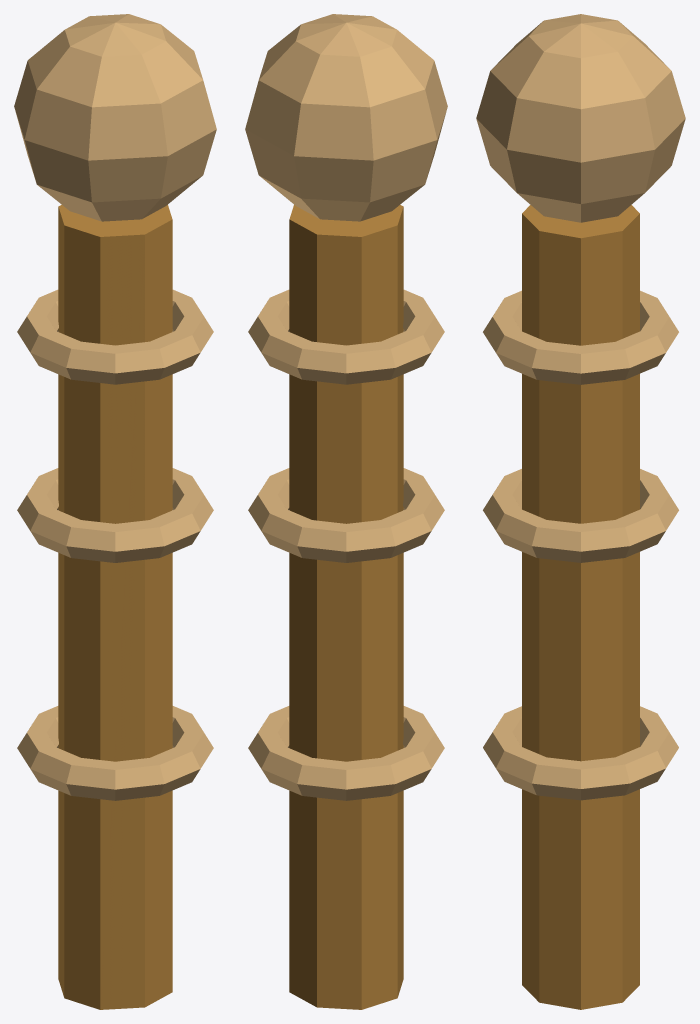
The model's file is totem_pole.dae.
3 renders of one model, left to right at view 1: azimuth 30°, elevation 25°; view 2: azimuth 150°, elevation 25°; view 3: azimuth 270°, elevation 25°, orthographic.
Visible parts, largest first — view 1: Cylinder, Sphere, Torus, Torus.002, Torus.001; view 2: Cylinder, Sphere, Torus, Torus.002, Torus.001; view 3: Cylinder, Sphere, Torus.001, Torus, Torus.002.
Part boxes in pixels (left/top/right/bottom): Cylinder: left=58, top=204, right=172, bottom=1009; Sphere: left=14, top=14, right=216, bottom=221; Torus: left=17, top=706, right=213, bottom=800; Torus.002: left=17, top=289, right=213, bottom=384; Torus.001: left=17, top=468, right=213, bottom=562; Cylinder: left=289, top=204, right=403, bottom=1009; Sphere: left=245, top=14, right=447, bottom=221; Torus: left=248, top=706, right=444, bottom=800; Torus.002: left=248, top=289, right=444, bottom=384; Torus.001: left=248, top=468, right=444, bottom=562; Cylinder: left=522, top=205, right=639, bottom=1009; Sphere: left=476, top=14, right=685, bottom=222; Torus.001: left=483, top=469, right=678, bottom=562; Torus: left=483, top=706, right=678, bottom=800; Torus.002: left=483, top=290, right=678, bottom=384.
Size of the model in its own units: 64 by 64 by 324.
